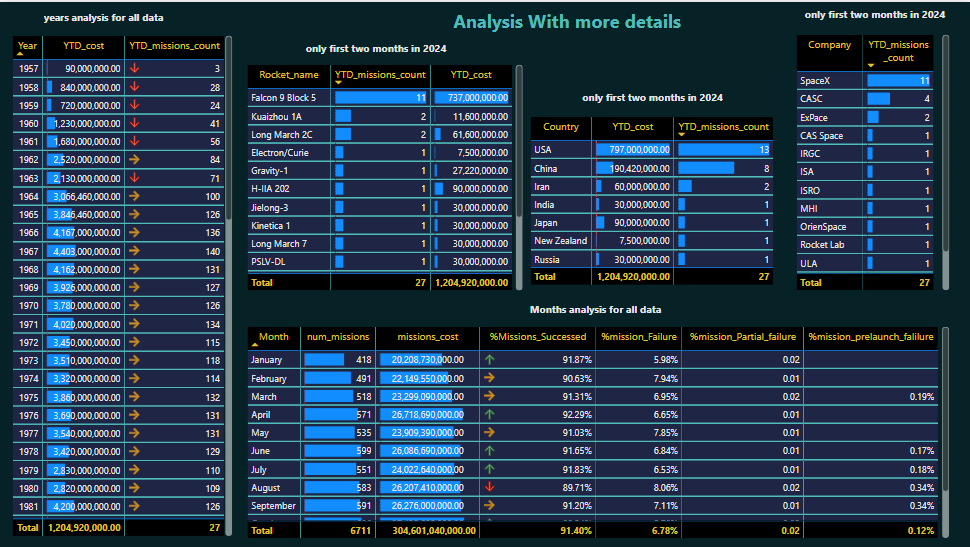

Layout of this report page (visuals, bound fields, positions):
{"tool":"powerbi","page":{"name":"Date Details Analysis","canvas":[1280,720],"ordinal":7},"visuals":[{"type":"tableEx","fields":{"Values":["Date_Launch_Dim.Date_only.Variation.Date Hierarchy.Year","KPIs.YTD_cost","KPIs.YTD_missions_count"]},"box":[10.8,39.2,300,667.6],"z":0},{"type":"tableEx","fields":{"Values":["Date_Launch_Dim.Date_only.Variation.Date Hierarchy.Month","KPIs.num_missions","KPIs.missions_cost","KPIs.%Missions_Successed","KPIs.%mission_Failure","KPIs.%mission_Partial_failure","KPIs.%mission_prelaunch_falilure"]},"box":[320.3,423,933.8,287.8],"z":1},{"type":"tableEx","fields":{"Values":["Location_Dim.Country","KPIs.YTD_cost","KPIs.YTD_missions_count"]},"box":[691.9,145.9,336.5,233.8],"z":2},{"type":"tableEx","fields":{"Values":["Rocket_Dim.Rocket_name","KPIs.YTD_missions_count","KPIs.YTD_cost"]},"box":[320.3,77,373,306.8],"z":3,"group":"g1"},{"type":"tableEx","fields":{"Values":["Company_Dim.Company","KPIs.YTD_missions_count"]},"box":[1041.9,37.8,212.2,345.9],"z":4,"group":"g2"},{"type":"textbox","box":[563.5,2.7,366.2,44.6],"z":5},{"type":"textbox","box":[320.3,47.3,350,29.7],"z":6,"group":"g1"},{"type":"textbox","box":[710.8,112.2,300,33.8],"z":7},{"type":"textbox","box":[1029.8,2.4,241.9,36.5],"z":8,"group":"g2"},{"type":"group","id":"g1","title":"Group 1","box":[320.3,47.3,373,336.5],"z":9},{"type":"group","id":"g2","title":"Group 2","box":[1029.8,2.4,241.9,381.4],"z":10},{"type":"textbox","box":[691.9,390.5,225.7,32.4],"z":11},{"type":"textbox","box":[52.7,6.8,225.7,32.4],"z":12}]}

Visuals, with their boxes in screenshot pixels (x1, y1, x2, y2), scaled from the page's 1280x720 canvas onto the 970x547 screenshot:
tableEx - Date_Launch_Dim.Date_only.Variation.Date Hierarchy.Year x KPIs.YTD_cost: (8, 30, 236, 537)
tableEx - Date_Launch_Dim.Date_only.Variation.Date Hierarchy.Month x KPIs.num_missions: (243, 321, 950, 540)
tableEx - Location_Dim.Country x KPIs.YTD_cost: (524, 111, 779, 288)
tableEx - Rocket_Dim.Rocket_name x KPIs.YTD_missions_count: (243, 58, 525, 292)
tableEx - Company_Dim.Company x KPIs.YTD_missions_count: (790, 29, 950, 292)
textbox: (427, 2, 705, 36)
textbox: (243, 36, 508, 58)
textbox: (539, 85, 766, 111)
textbox: (780, 2, 964, 30)
"Group 1" group: (243, 36, 525, 292)
"Group 2" group: (780, 2, 964, 292)
textbox: (524, 297, 695, 321)
textbox: (40, 5, 211, 30)
